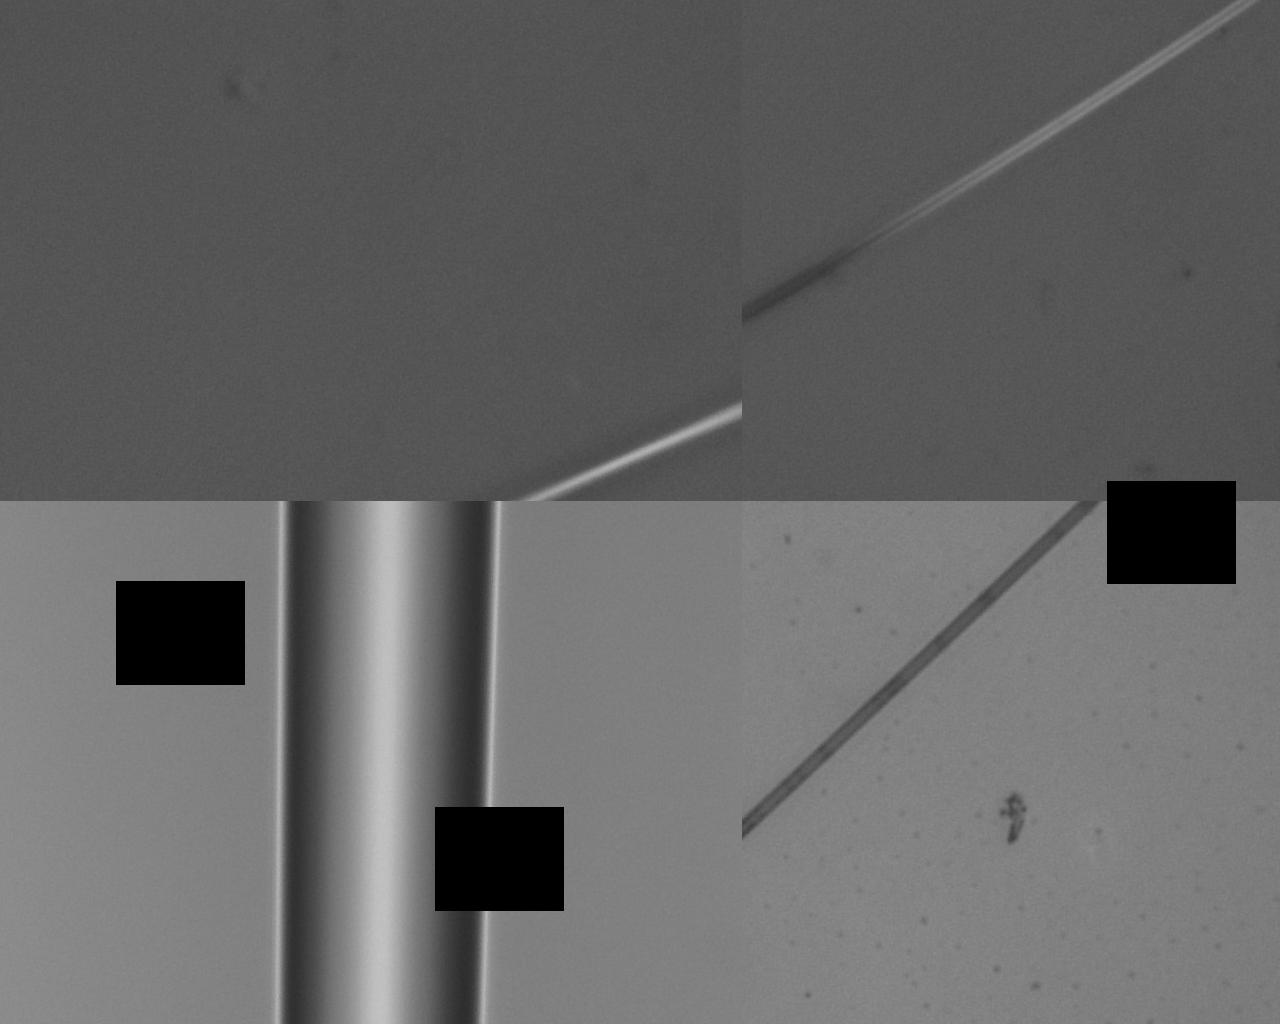fiber: (128, 467, 1152, 647)
